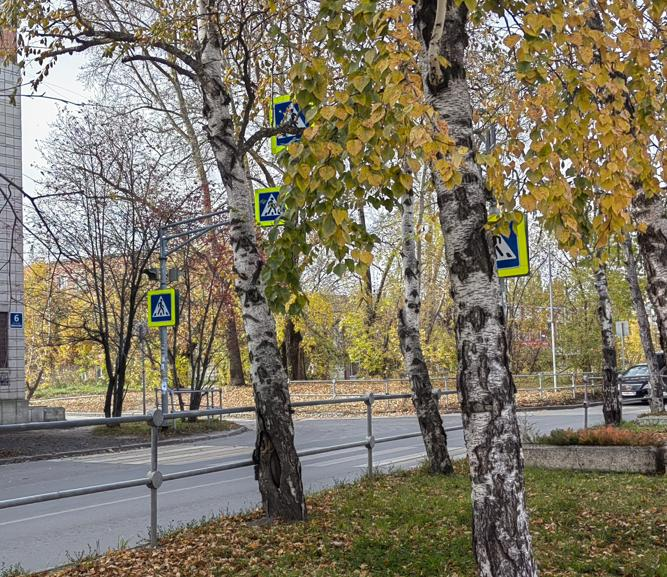obstructed_road_sign: (269, 90, 319, 154), (488, 211, 529, 278), (255, 189, 292, 225)
road_sign: (148, 290, 176, 326)
